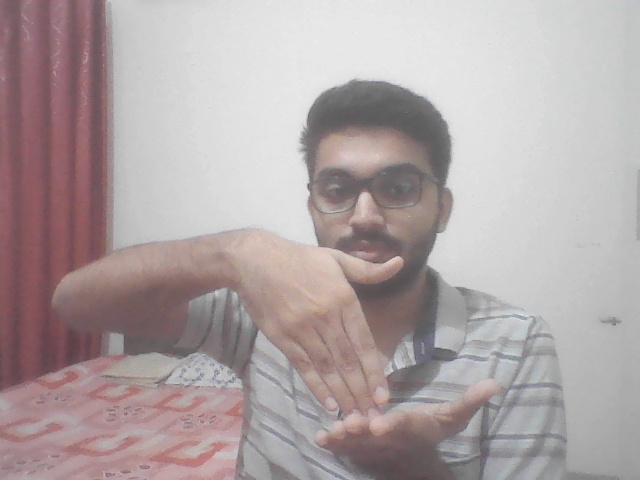again: (192, 212, 512, 468)
